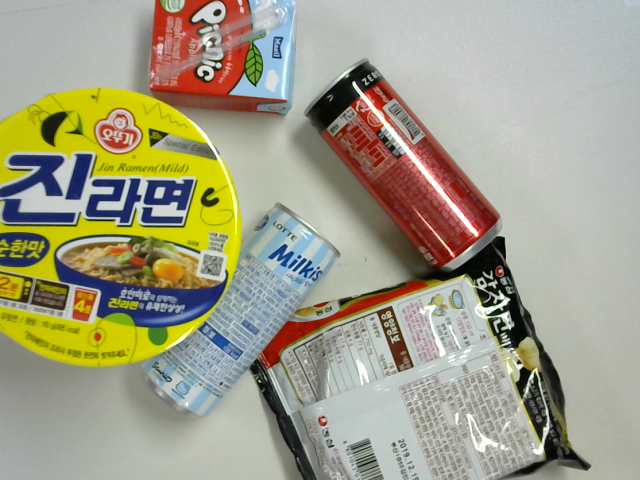Coca_Cola_Zero_Can_250ml: (299, 44, 516, 282)
Jinlamyeon_Mild_Taste_Large_Cup: (1, 79, 242, 367)
Milkies_250ml: (138, 204, 339, 425)
Picnic_Apple: (150, 1, 310, 109)
Potato: (248, 258, 580, 480)
